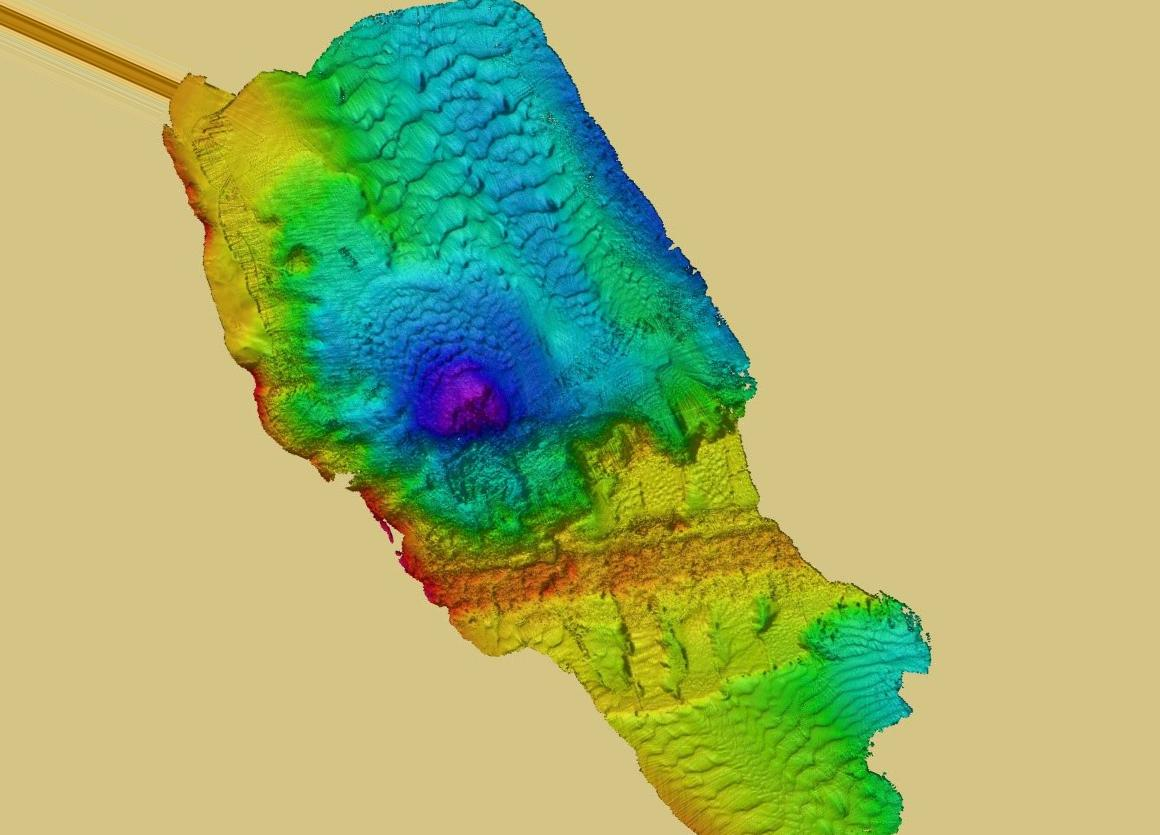Dune: (346, 36, 544, 241), (680, 710, 839, 821), (739, 700, 852, 803), (522, 180, 599, 310), (641, 721, 727, 812), (354, 285, 475, 340), (839, 638, 892, 726)
Scarp: (235, 352, 345, 496), (342, 471, 433, 602)
Scour pit: (412, 354, 528, 440)
Submerged dike: (434, 525, 782, 640), (572, 527, 800, 609), (427, 558, 705, 621)
